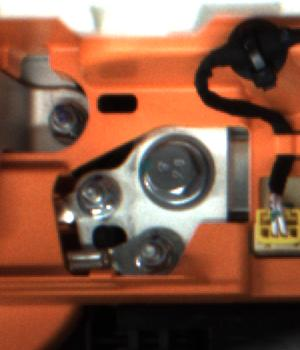nut_b: (132, 128, 223, 213)
